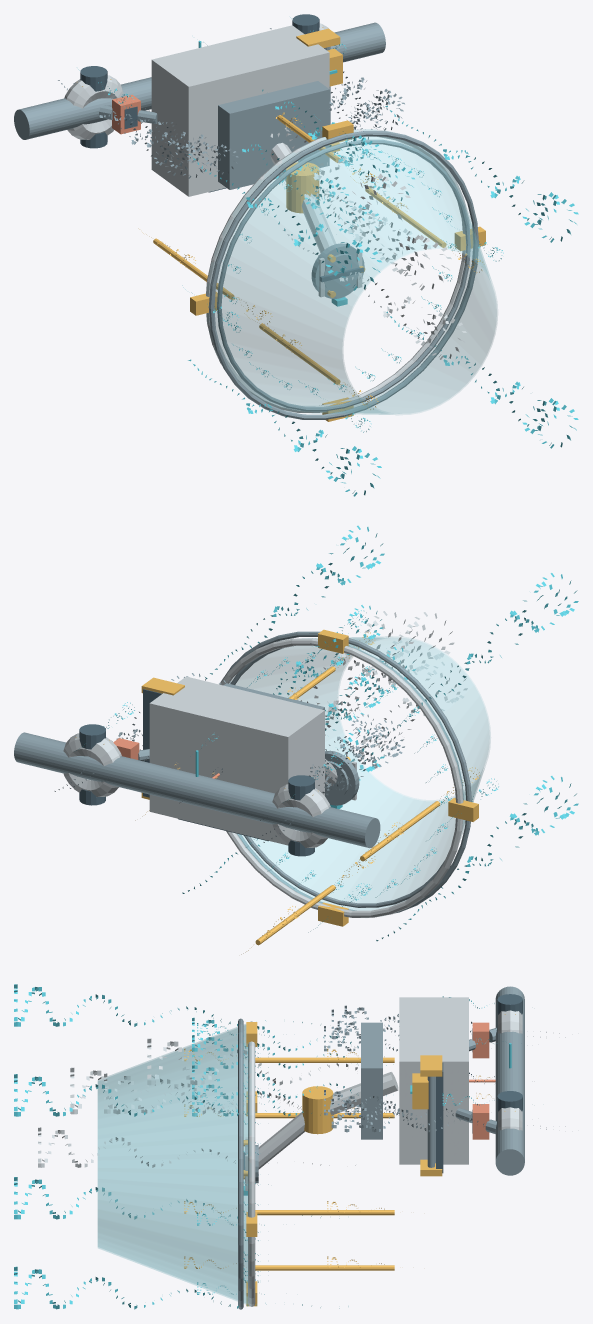
File: HARBOR-handrail-robot.glb
The picture shows the model from 3 angles, top to bottom: view 1: azimuth 30°, elevation 25°; view 2: azimuth 150°, elevation 25°; view 3: azimuth 270°, elevation 25°; orthographic projection. The views are drawn at different scales.
Parts seen in each view (by area): view 1: hood, steel, metal, amber, cyan, dark, cell; view 2: metal, hood, steel, cyan, amber, dark; view 3: hood, metal, steel, amber, cyan, dark, cell.
Boxes of the visible parts, x1,y1,x2,y2 form: hood: (207,129,497,414); steel: (14,22,478,419); metal: (64,23,469,412); amber: (82,27,485,421); cyan: (78,17,578,496); dark: (80,14,364,282); cell: (112,94,140,134); metal: (63,611,467,917); hood: (229,636,490,910); steel: (14,631,471,913); cyan: (74,525,578,941); amber: (75,629,479,954); dark: (79,689,359,856); hood: (97,1024,250,1305); metal: (38,997,522,1306); steel: (238,986,565,1309); amber: (184,1014,515,1306); cyan: (14,984,511,1309); dark: (243,994,522,1173); cell: (469,1022,495,1139).
Bounding box in the file's own units: 0.42 × 0.3369 × 0.6165.
